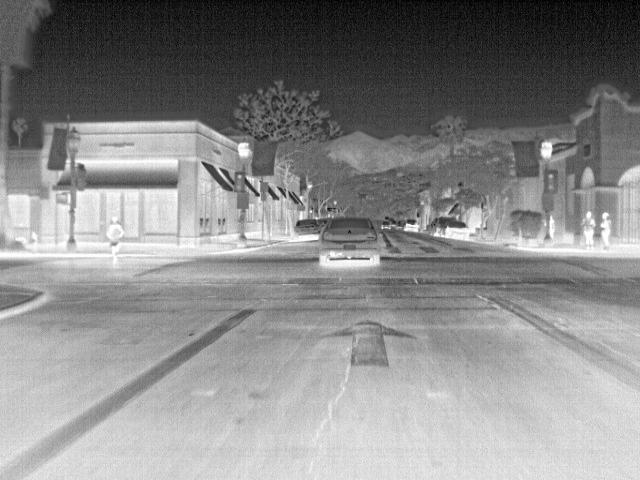car: (319, 213, 384, 262), (296, 219, 323, 240), (441, 221, 472, 239), (430, 214, 456, 233), (403, 220, 421, 234), (377, 220, 392, 232)
person: (106, 214, 126, 265), (597, 211, 615, 250), (581, 210, 598, 250), (547, 213, 559, 240)
